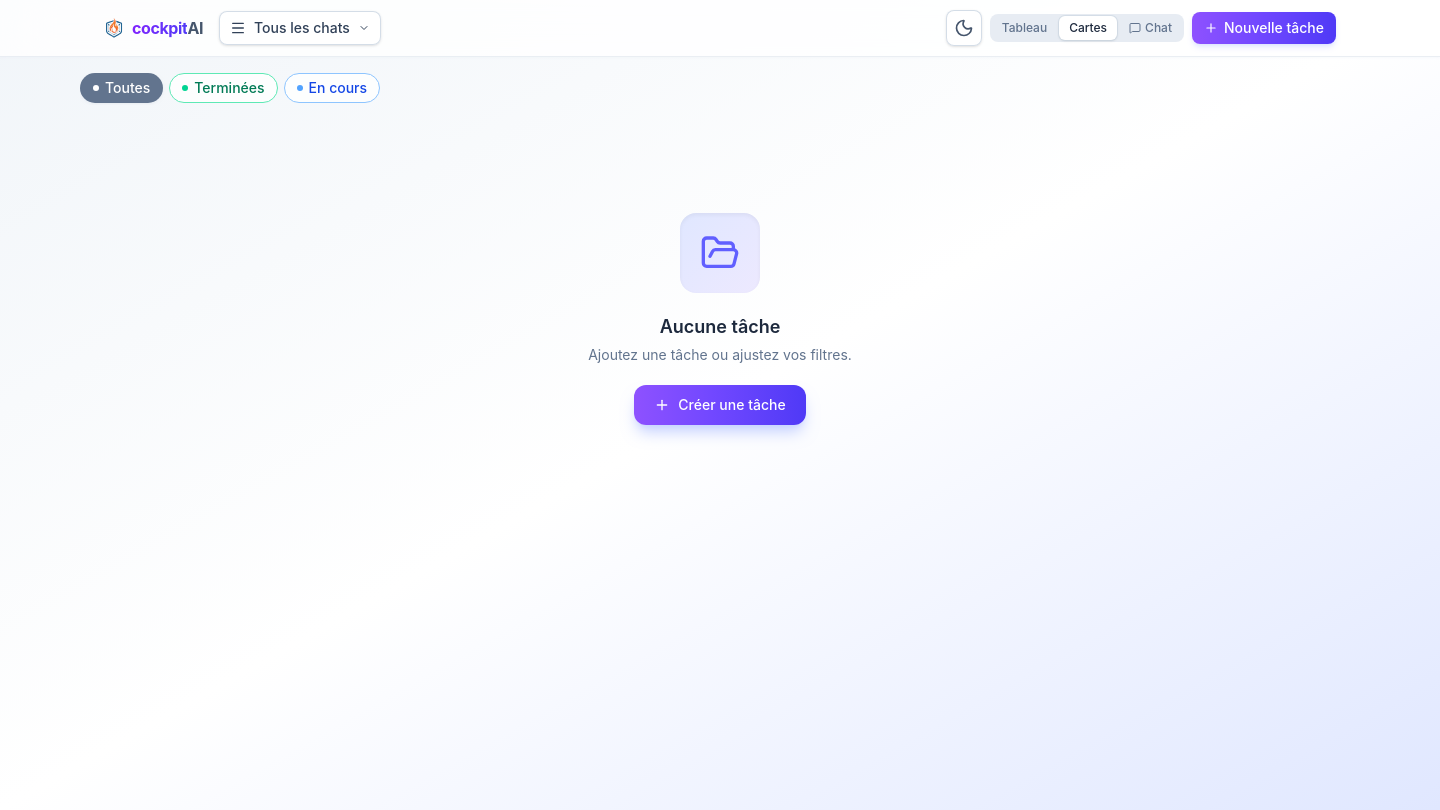
Scenario: App — QuickInputBar wiring › renders QuickInputBar after selecting a session
The width and height of the screenshot is (1440, 810).
Open burger and select the session chat
Step 1. Click the button "Tous les chats" → click(300, 28), box [219,11,381,45]
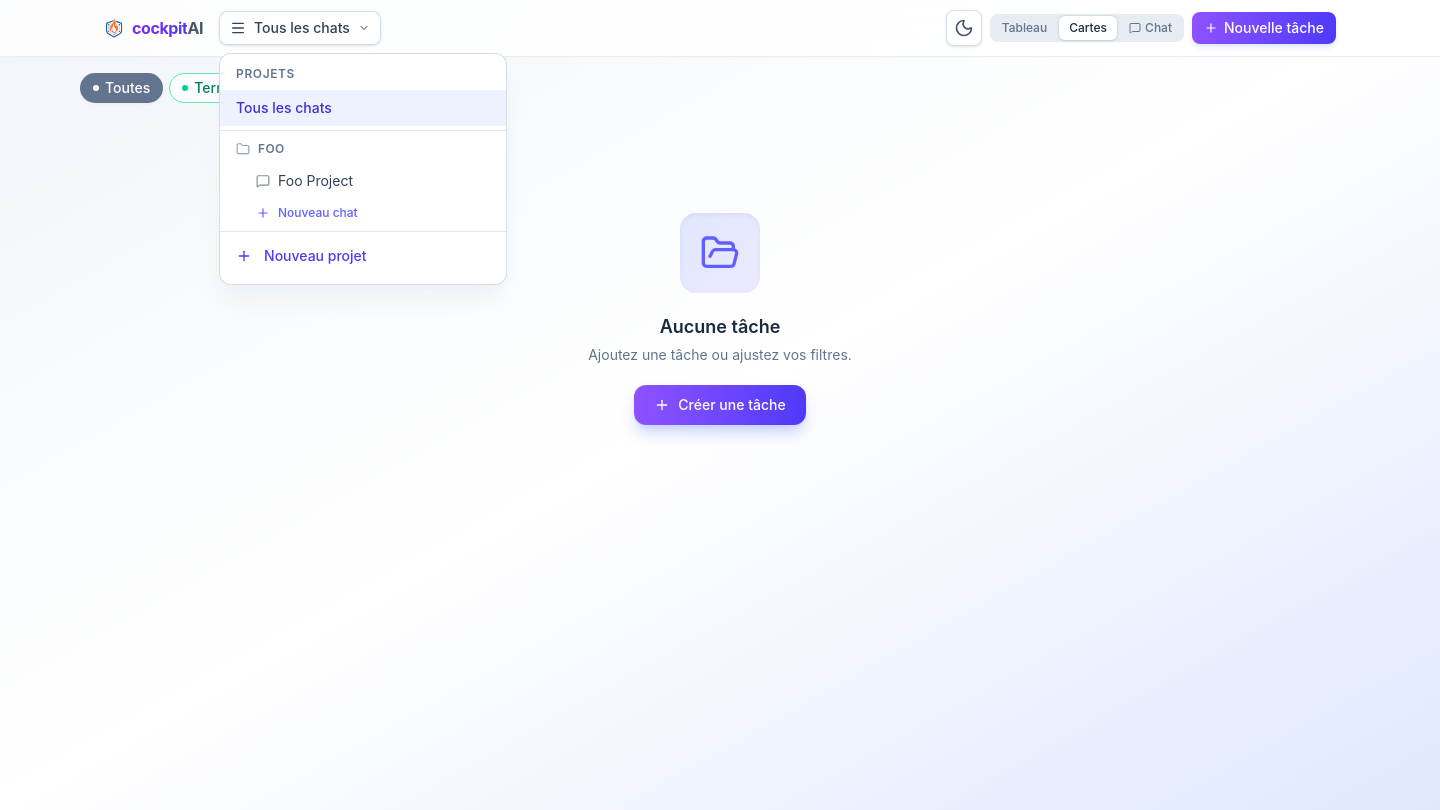
Step 2. Click the button "Foo Project" → click(316, 180), box [220,163,506,199]
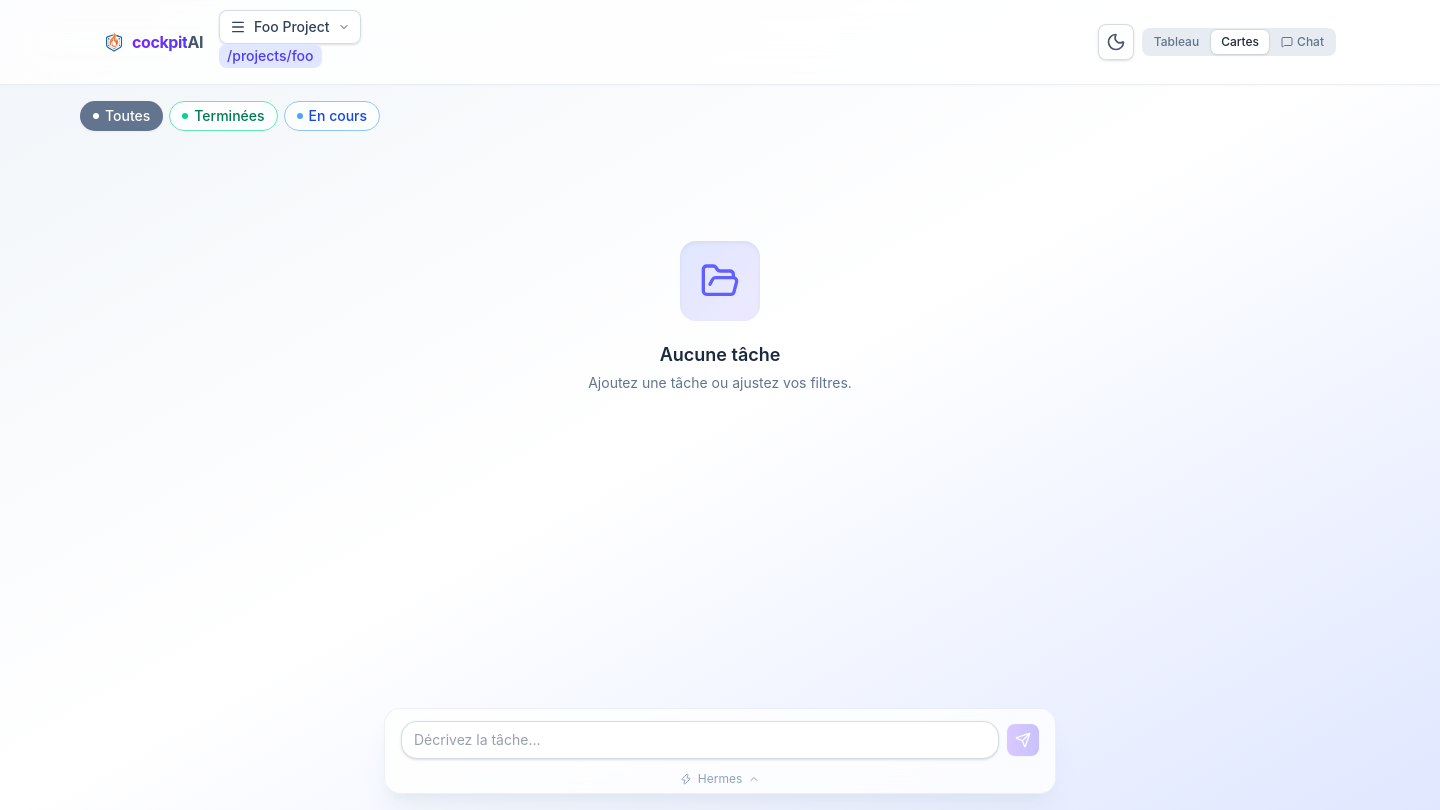
Result: the field with placeholder "Décrivez la tâche…" is shown at [401,721,999,759]
